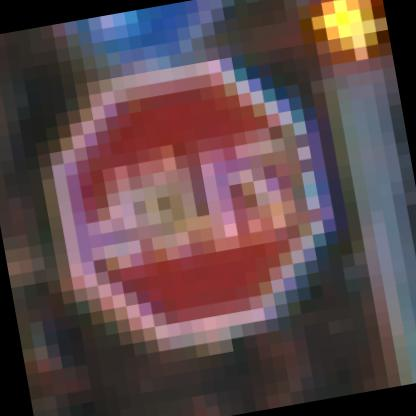stop: (12, 35, 356, 358)
